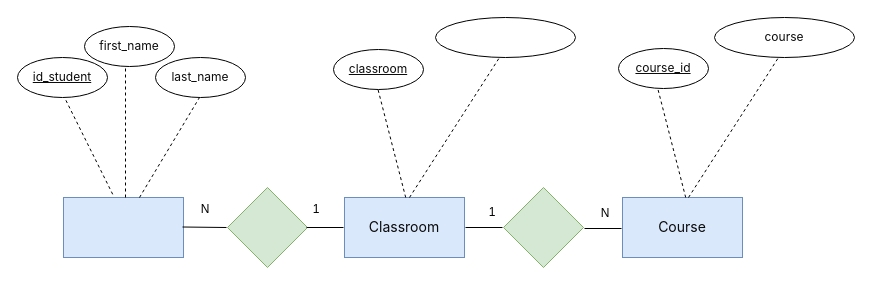
This 872x285 diagram has some shape labels left out. Here are the shapes that lost their labels. From the top down, the box of each, then its label:
(434, 16, 576, 58): classroom_description
(62, 196, 184, 258): Student
(226, 186, 308, 268): studies_in
(502, 186, 584, 268): offers
